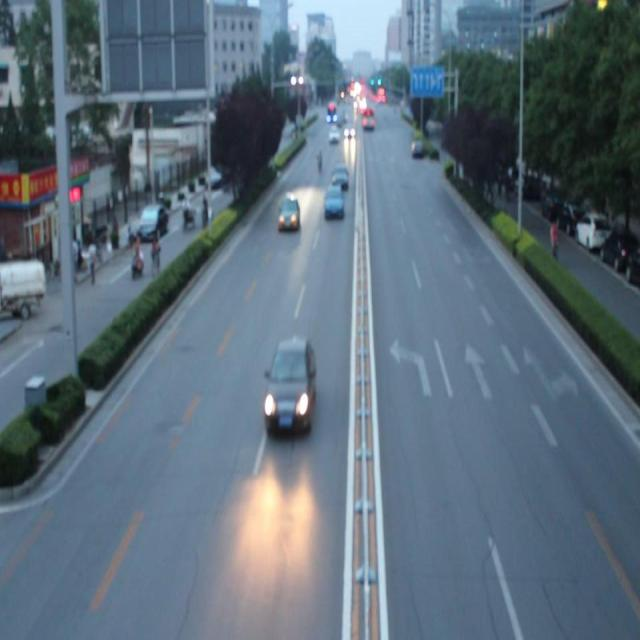car: (262, 336, 315, 434), (276, 192, 300, 233), (324, 185, 344, 220)
